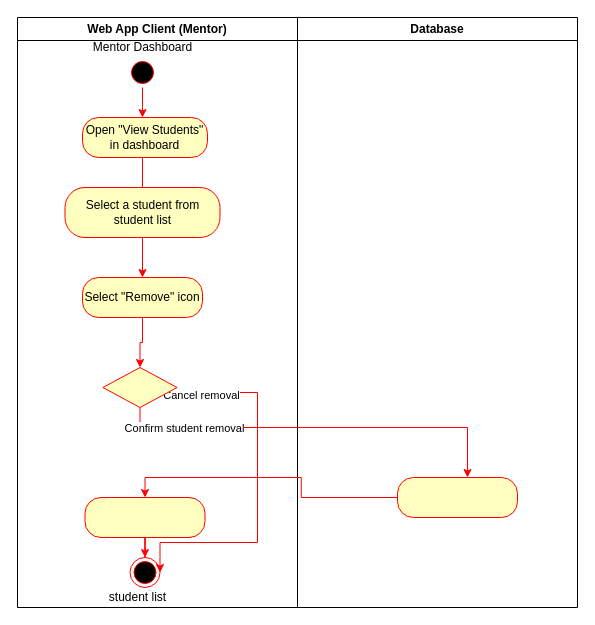
Image size: 595x625. Some labels were removed from this diagram. Here are the shapes that lost their labels. From the top down, the centre of each, then its label:
At (x=144, y=517): "Update Student List".
At (x=457, y=497): "Remove student from course table".
